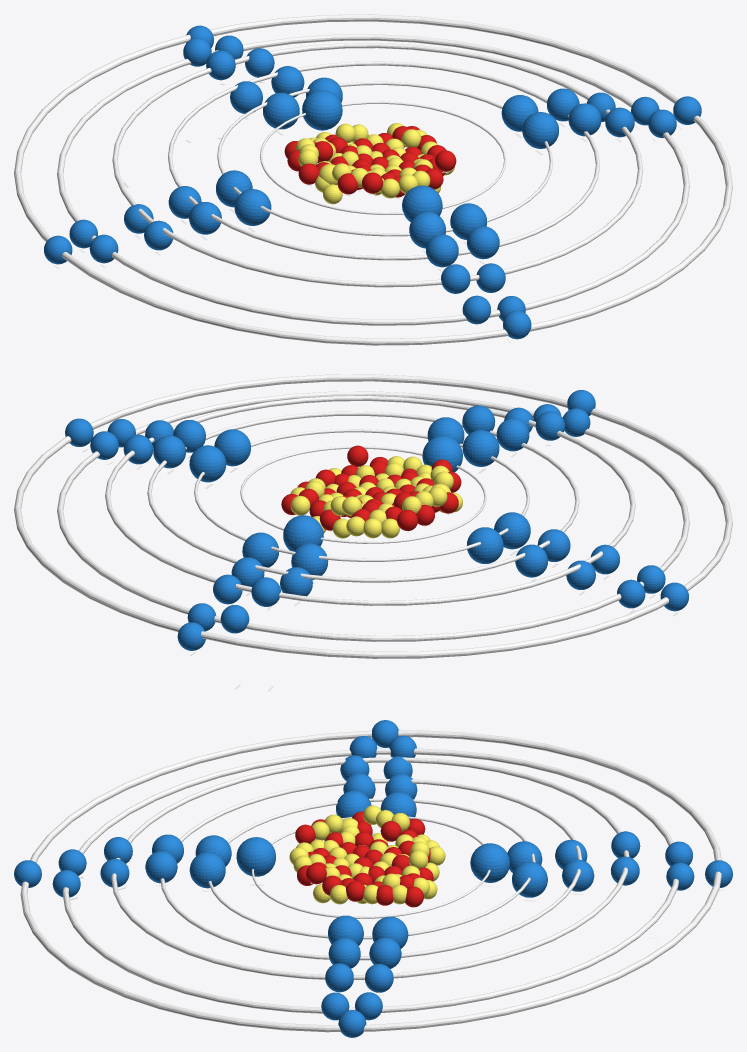
3 views of the same model, one above another, from view 1: azimuth 30°, elevation 25°; view 2: azimuth 150°, elevation 25°; view 3: azimuth 270°, elevation 25° (orthographic). The views are drawn at different scales.
Parts seen in each view (by area): view 1: Torus.006, Torus.005, Torus.004, Torus.003, Torus.002, Torus.001, g, g.005, g.003, g.001, g.008, g.007 (+27 smaller); view 2: Torus.006, Torus.005, Torus.004, Torus.003, Torus.002, Torus.001, g, g.004, g.006, g.002, g.001, g.003 (+28 smaller); view 3: Torus.006, Torus.005, Torus.004, Torus.003, Torus.002, g.001, g, Torus.001, g.007, g.009, g.015, g.005 (+28 smaller).
Part boxes in pixels (<box>): Torus.006: <box>14,14,732,345</box>; Torus.005: <box>57,34,689,325</box>; Torus.004: <box>112,43,642,287</box>; Torus.003: <box>168,61,599,260</box>; Torus.002: <box>217,81,552,236</box>; Torus.001: <box>260,101,506,214</box>; g: <box>302,90,342,130</box>; g.005: <box>522,112,558,148</box>; g.003: <box>234,189,271,225</box>; g.001: <box>402,185,442,222</box>; g.008: <box>263,92,299,129</box>; g.007: <box>450,203,486,239</box>; Torus.006: <box>14,374,732,658</box>; Torus.005: <box>57,391,689,641</box>; Torus.004: <box>105,395,635,605</box>; Torus.003: <box>147,411,579,582</box>; Torus.002: <box>194,429,529,561</box>; Torus.001: <box>240,446,486,543</box>; g: <box>283,515,323,551</box>; g.004: <box>189,445,226,482</box>; g.006: <box>462,430,499,466</box>; g.002: <box>466,527,503,563</box>; g.001: <box>422,435,462,472</box>; g.003: <box>494,512,530,549</box>; Torus.006: <box>20,730,721,1032</box>; Torus.005: <box>62,748,678,1013</box>; Torus.004: <box>111,757,629,979</box>; Torus.003: <box>160,779,581,960</box>; Torus.002: <box>208,798,535,939</box>; g.001: <box>236,837,275,876</box>; g: <box>470,843,509,882</box>; Torus.001: <box>251,816,490,918</box>; g.007: <box>189,852,225,888</box>; g.009: <box>512,861,547,897</box>; g.015: <box>145,851,177,883</box>; g.005: <box>328,915,363,945</box>.
Bounding box in the file's own units: 17.93 × 2.92 × 17.93.
